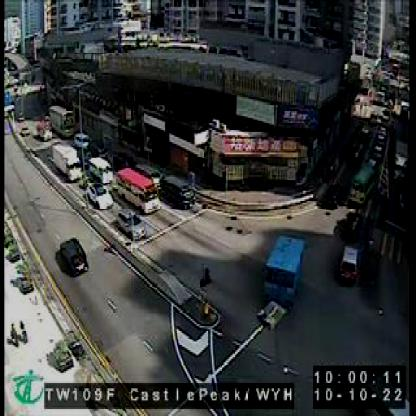Bus: (118, 167, 158, 213)
Car: (159, 170, 195, 211), (57, 238, 91, 274), (337, 243, 361, 284), (87, 162, 112, 201), (116, 209, 147, 240), (86, 178, 110, 206), (323, 179, 345, 205), (72, 131, 91, 149), (349, 144, 364, 166), (374, 143, 385, 156), (362, 127, 371, 142), (376, 130, 386, 142), (20, 127, 29, 138)
Minibus: (348, 163, 376, 208)
Truck: (264, 233, 305, 305), (53, 143, 82, 183), (393, 139, 410, 182), (49, 107, 73, 136), (90, 157, 113, 183)
